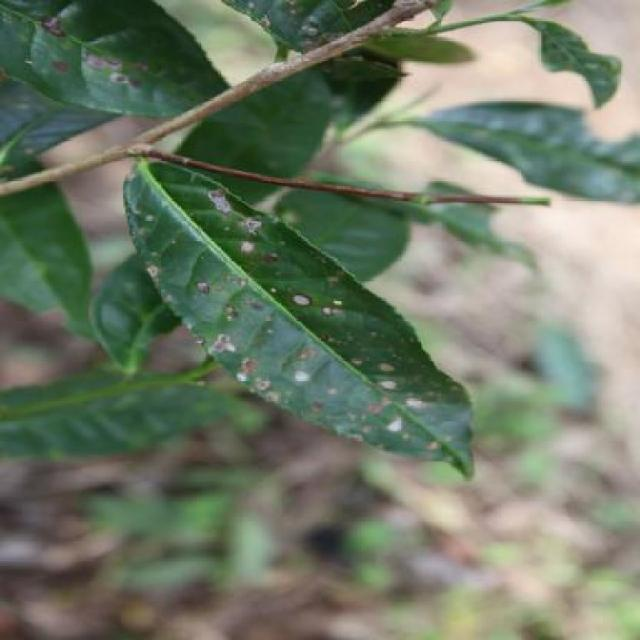Leaf rust of tea: (120, 152, 488, 478)
